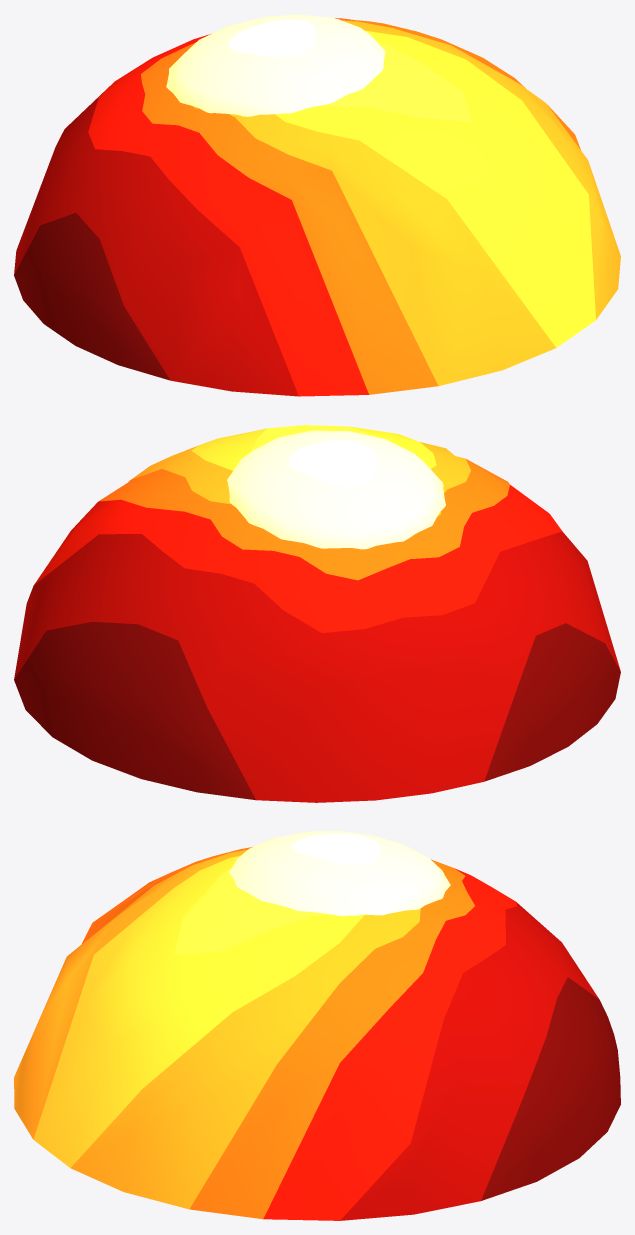
File: shot_fireball_3.glb
3 renders of one model, top to bottom at view 1: azimuth 30°, elevation 25°; view 2: azimuth 150°, elevation 25°; view 3: azimuth 270°, elevation 25°, orthographic.
Parts seen in each view (by area): view 1: shot_fireball_3_fire, shot_fireball_3_core; view 2: shot_fireball_3_fire, shot_fireball_3_core; view 3: shot_fireball_3_fire, shot_fireball_3_core.
Part boxes in pixels (x1=…): shot_fireball_3_fire: x1=14, y1=18, x2=620, y2=396; shot_fireball_3_core: x1=166, y1=14, x2=385, y2=116; shot_fireball_3_fire: x1=14, y1=425, x2=620, y2=802; shot_fireball_3_core: x1=227, y1=430, x2=445, y2=549; shot_fireball_3_fire: x1=14, y1=847, x2=620, y2=1220; shot_fireball_3_core: x1=229, y1=831, x2=450, y2=915.
Bounding box in the file's own units: 12.07 × 5.12 × 12.03.
